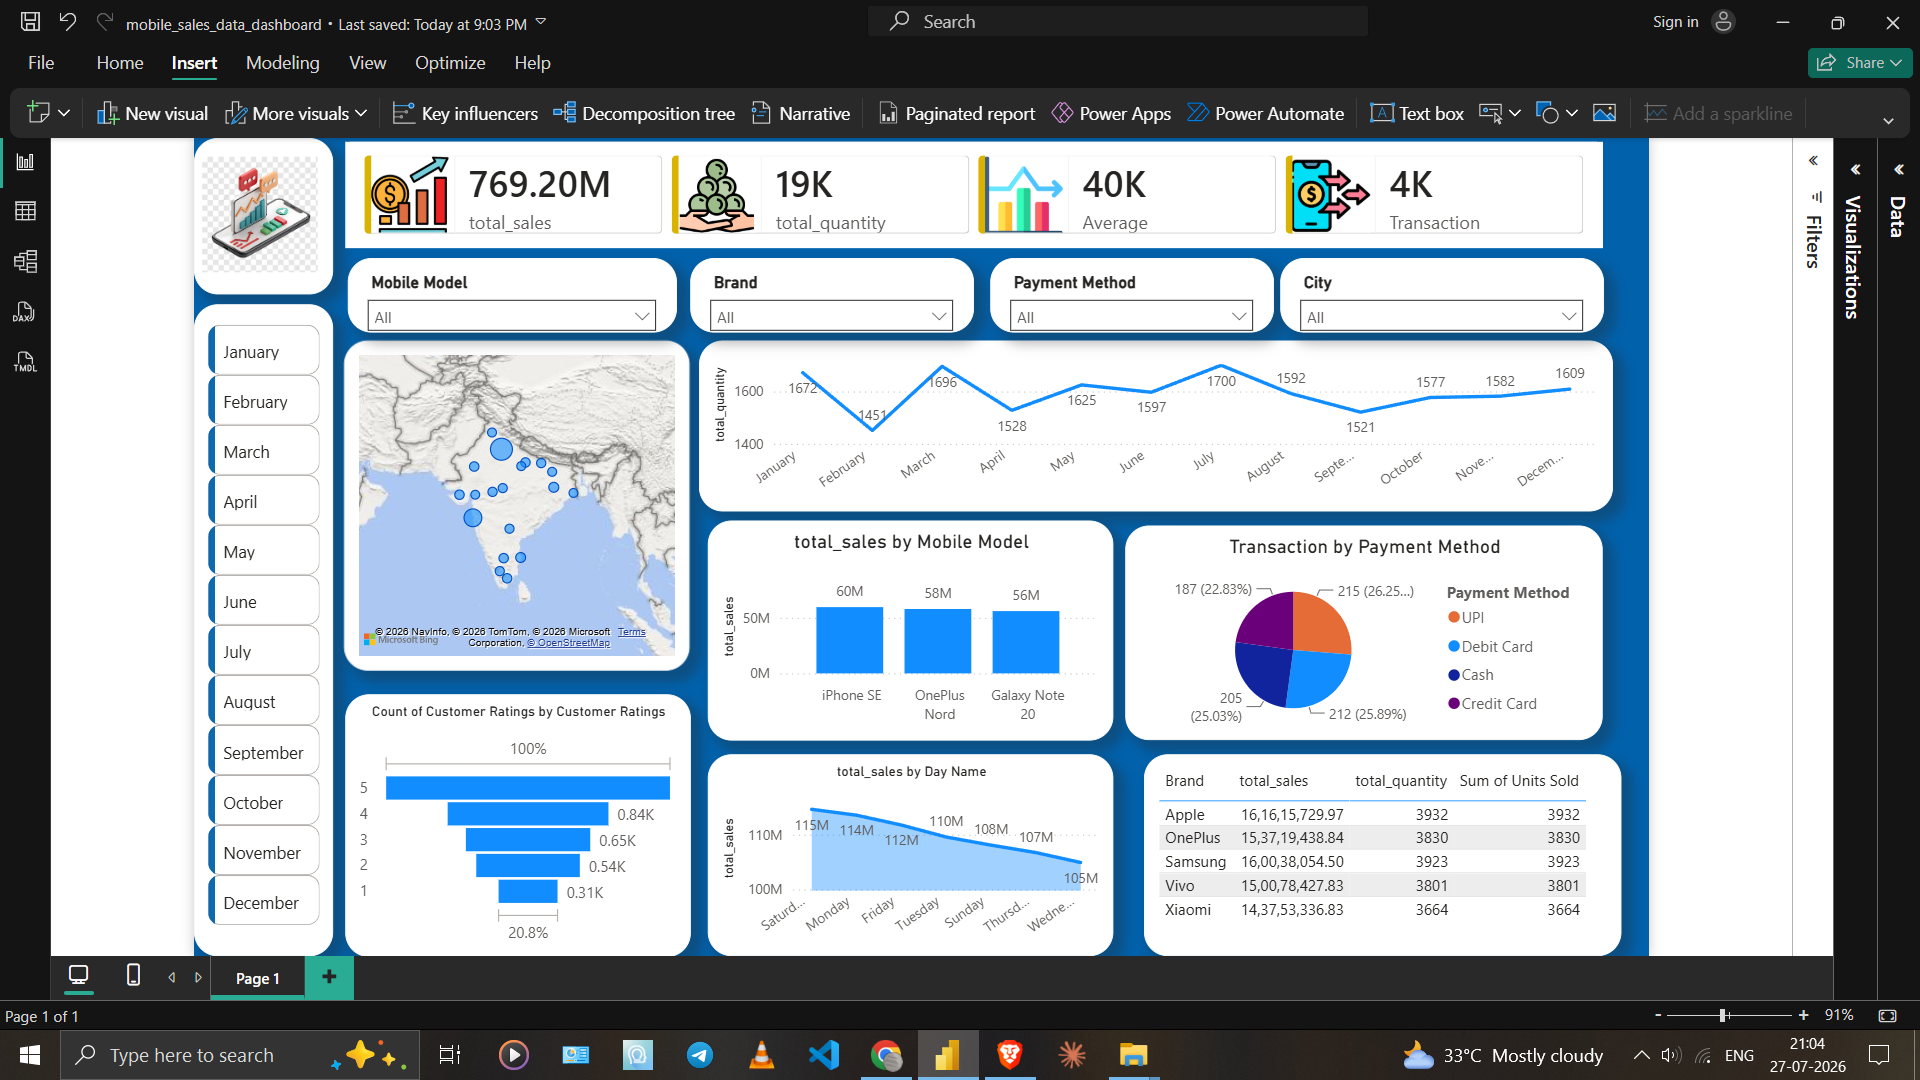

Layout of this report page (visuals, bound fields, positions):
{"tool":"powerbi","page":{"name":"Page 1","canvas":[1280,720],"ordinal":0},"visuals":[{"type":"shape","box":[0,0,122.3,138],"z":0},{"type":"shape","box":[0,146.5,122.3,573.8],"z":2000},{"type":"advancedSlicerVisual","fields":{"Values":["sales_data.Date.Variation.Date Hierarchy.Month"]},"box":[7.3,159.8,108.9,547.1],"z":3000},{"type":"cardVisual","fields":{"Data":["sales_data.total_sales","sales_data.total_quantity","sales_data.transaction","sales_data.Transaction"]},"box":[133.2,3.6,1106.4,93.2],"z":4000},{"type":"map","fields":{"Category":["sales_data.City"],"Size":["sales_data.total_sales"]},"box":[131.9,177.9,303.8,290.5],"z":5000},{"type":"lineChart","fields":{"Category":["sales_data.Date.Variation.Date Hierarchy.Month","sales_data.Date.Variation.Date Hierarchy.Day"],"Y":["sales_data.total_quantity"]},"box":[444.2,178.1,803.8,150.1],"z":6000},{"type":"columnChart","fields":{"Category":["sales_data.Mobile Model"],"Y":["sales_data.total_sales"]},"box":[451.5,336.5,356.8,193.5],"z":7000},{"type":"pieChart","fields":{"Category":["sales_data.Payment Method"],"Y":["sales_data.Transaction"]},"box":[819.5,341.4,420,188.8],"z":8000},{"type":"funnel","fields":{"Category":["sales_data.Customer Ratings"],"Y":["CountNonNull(sales_data.Customer Ratings)"]},"box":[133.2,489,303.8,231.2],"z":9000},{"type":"areaChart","fields":{"Category":["sales_data.Day Name"],"Y":["sales_data.total_sales"]},"box":[451.5,542.3,357.1,177.9],"z":10000},{"type":"tableEx","fields":{"Values":["sales_data.Brand","sales_data.total_sales","sales_data.total_quantity","Sum(sales_data.Units Sold)"]},"box":[835.2,542.3,420,177.9],"z":10001},{"type":"slicer","fields":{"Values":["sales_data.Mobile Model"]},"box":[135.6,105.3,289.3,65.4],"z":10002},{"type":"slicer","fields":{"Values":["sales_data.Brand"]},"box":[437,105.3,249.4,65.4],"z":10003},{"type":"slicer","fields":{"Values":["sales_data.Payment Method"]},"box":[700.9,105.3,249.4,65.4],"z":10004},{"type":"slicer","fields":{"Values":["sales_data.City"]},"box":[955.1,105.3,284.5,65.4],"z":10005},{"type":"image","box":[0,16.9,116.2,101.7],"z":10006}]}

Visuals, with their boxes on the page's 1280x720 design canvas (x1, y1, x2, y2). These are canvas units, not pixel positions in the 1920x1080 screenshot, which may show the page scaled, cropped or inside an application window:
shape: Rect(0, 0, 122, 138)
shape: Rect(0, 146, 122, 720)
advancedSlicerVisual - sales_data.Date.Variation.Date Hierarchy.Month: Rect(7, 160, 116, 707)
cardVisual - sales_data.total_sales x sales_data.total_quantity: Rect(133, 4, 1240, 97)
map - sales_data.City x sales_data.total_sales: Rect(132, 178, 436, 468)
lineChart - sales_data.Date.Variation.Date Hierarchy.Month x sales_data.Date.Variation.Date Hierarchy.Day: Rect(444, 178, 1248, 328)
columnChart - sales_data.Mobile Model x sales_data.total_sales: Rect(452, 336, 808, 530)
pieChart - sales_data.Payment Method x sales_data.Transaction: Rect(820, 341, 1240, 530)
funnel - sales_data.Customer Ratings x CountNonNull(sales_data.Customer Ratings): Rect(133, 489, 437, 720)
areaChart - sales_data.Day Name x sales_data.total_sales: Rect(452, 542, 809, 720)
tableEx - sales_data.Brand x sales_data.total_sales: Rect(835, 542, 1255, 720)
slicer - sales_data.Mobile Model: Rect(136, 105, 425, 171)
slicer - sales_data.Brand: Rect(437, 105, 686, 171)
slicer - sales_data.Payment Method: Rect(701, 105, 950, 171)
slicer - sales_data.City: Rect(955, 105, 1240, 171)
image: Rect(0, 17, 116, 119)
